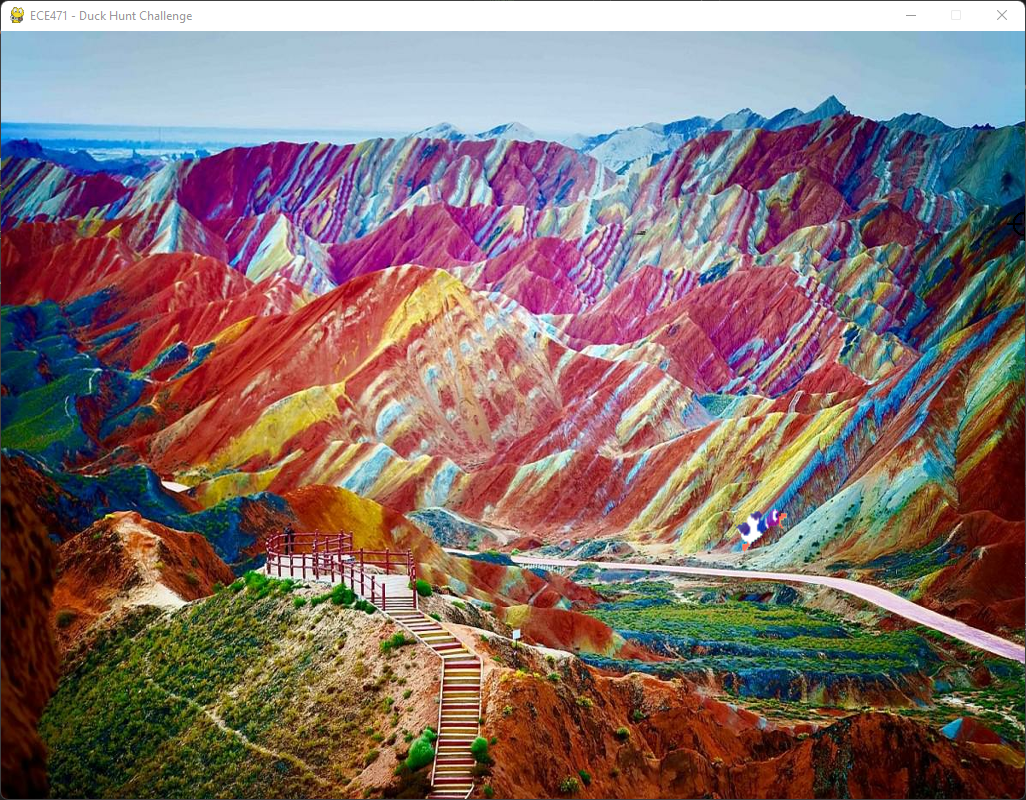blue: (728, 506, 792, 557)
